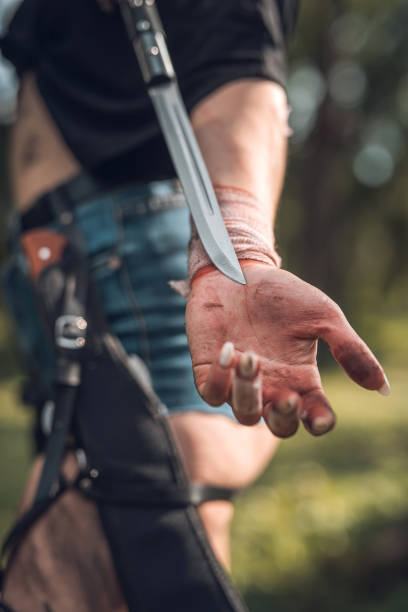knife: (119, 0, 245, 288)
